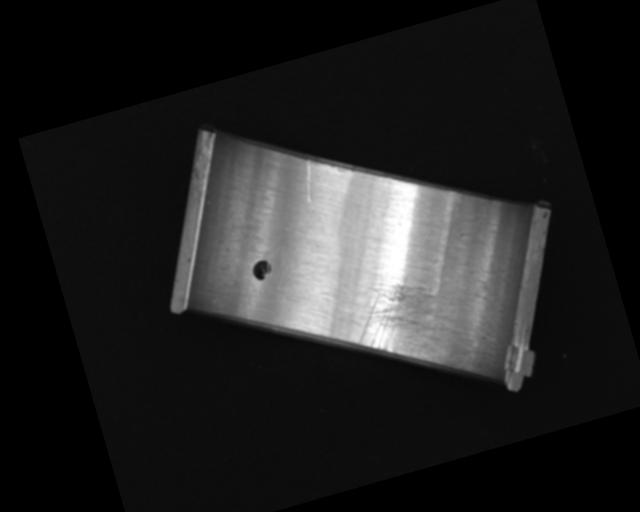blot: (249, 257, 274, 282)
nick: (297, 160, 321, 202)
scratch: (344, 265, 470, 395)
